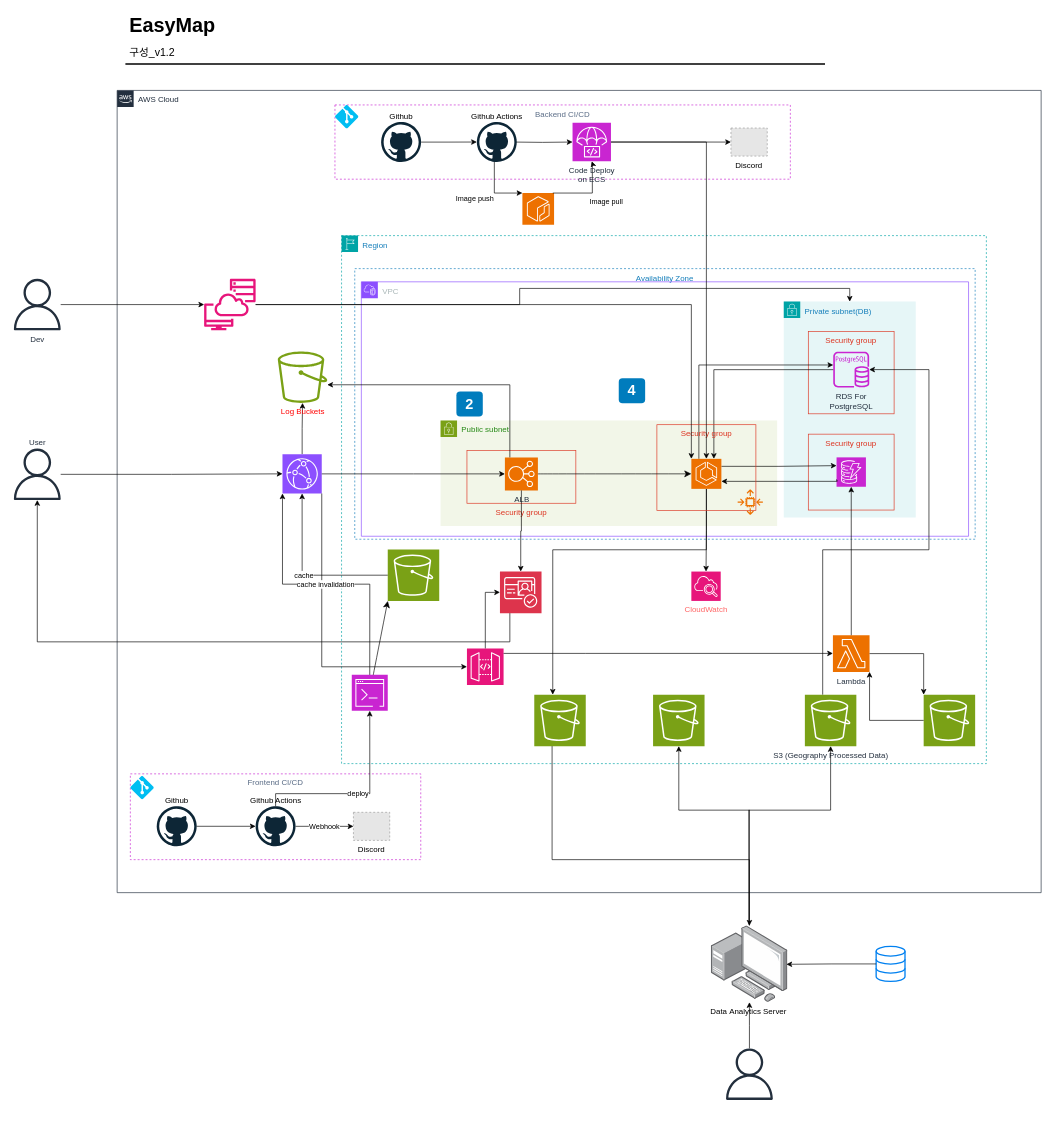
This 1053x1125 diagram has some shape labels left out. Grey dashed boxes stand in for pictures. Each missing label, with the centre of its shape:
"API Gateway" belongs at pixel 485 666.
"Auto Scailing" belongs at pixel 750 501.
"CLI" belongs at pixel 369 692.
"CloudFront" belongs at pixel 302 473.
"Cognito" belongs at pixel 520 592.
"Data" belongs at pixel 749 1074.
"Dynamo DB" belongs at pixel 851 472.
"ECR" belongs at pixel 538 208.
"ECS" belongs at pixel 706 473.
"Geography Raw Data)" belongs at pixel 890 963.
"S3 (Frontend)" belongs at pixel 413 575.
"S3 (User Pictures Data)" belongs at pixel 949 720.
"S3 (User Routes Processed Data )" belongs at pixel 678 720.
"S3 (User Routes Raw Data)" belongs at pixel 560 720.
"Session Manager" belongs at pixel 229 304.
